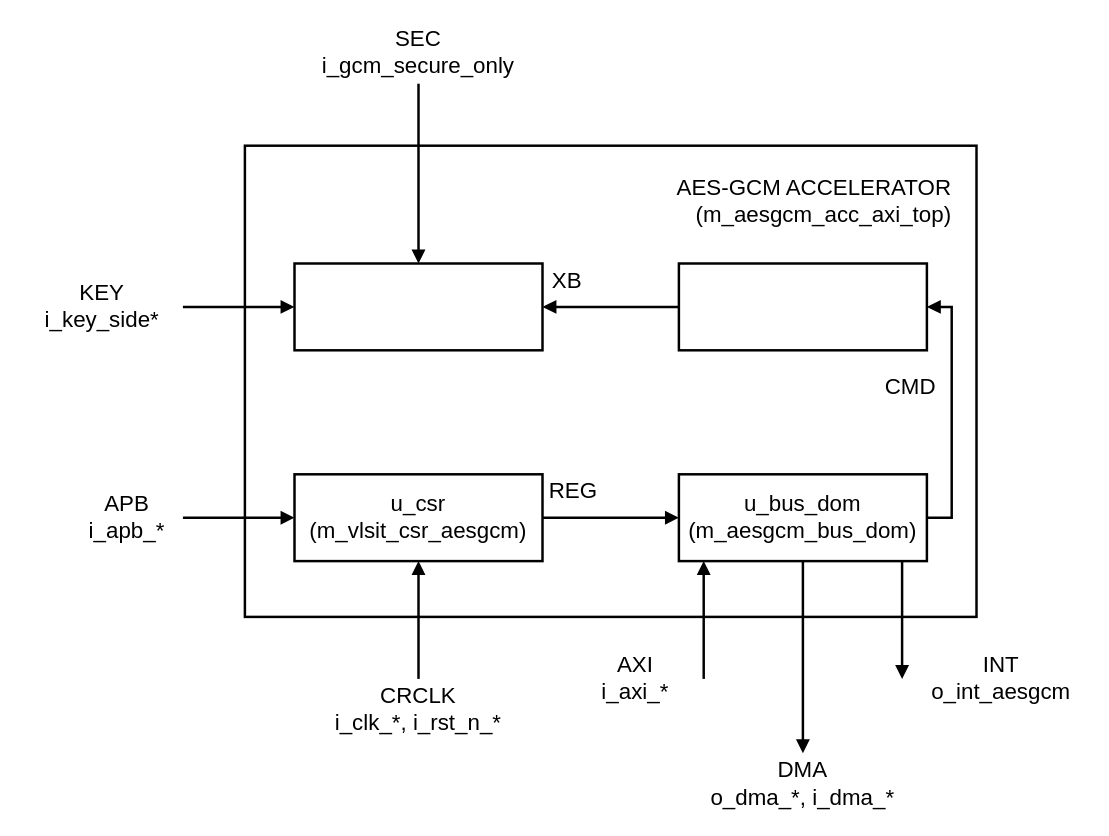
The diagram is 1109 pixels wide and 836 high, and some of its shapes have lost their labels. Here are the shapes that lost their labels. From the top down, the centre of each, then its label:
At (418,306): "u_core_dom (m_aesgcm_core_dom)".
At (802,306): "u_xing (m_aesgcm_xing)".
